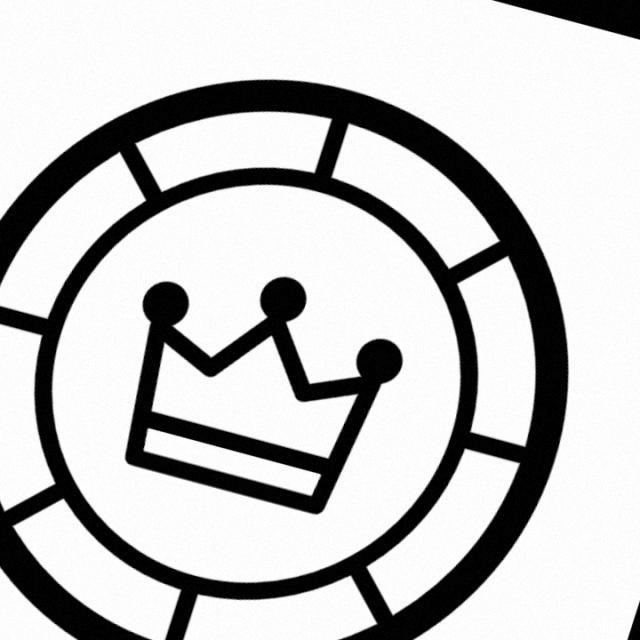coin: (1, 76, 580, 640)
